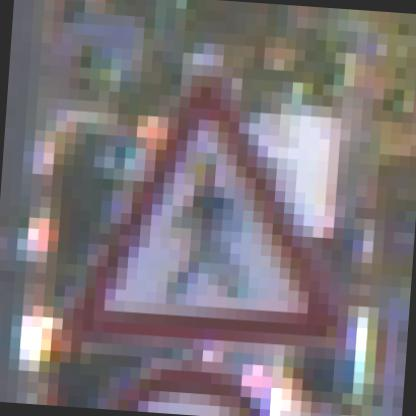crosswalk: (75, 89, 356, 379)
